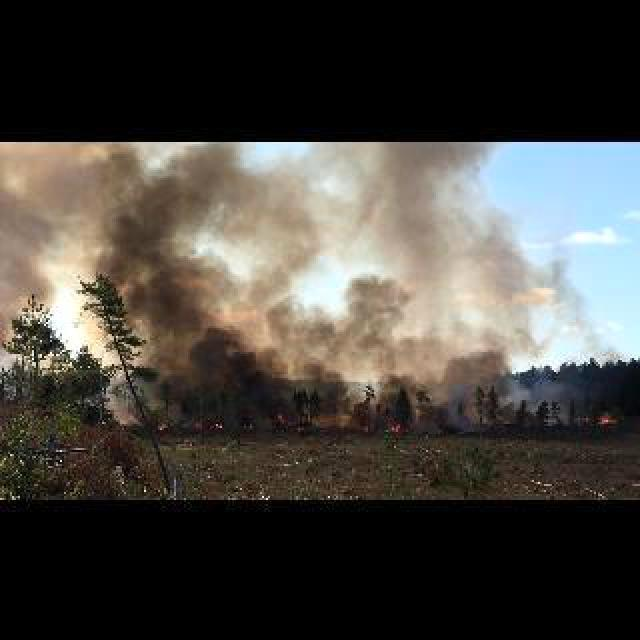Smoke: (0, 144, 324, 419), (334, 146, 562, 426)
